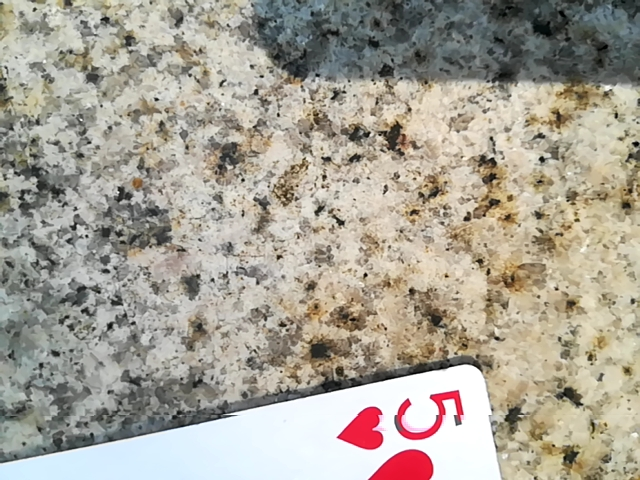hx 5: (0, 369, 538, 480)
